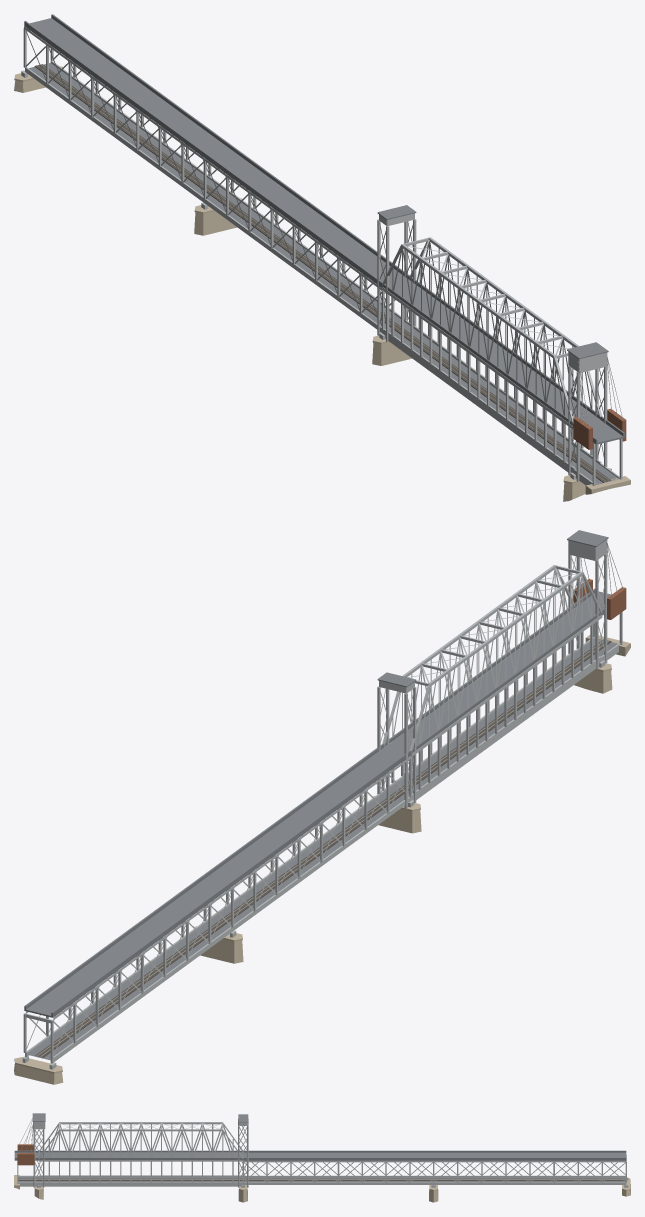
Rendered from kc-asb-bridge.glb.
3 renders of one model, top to bottom at view 1: azimuth 30°, elevation 25°; view 2: azimuth 150°, elevation 25°; view 3: azimuth 270°, elevation 25°, orthographic. The views are drawn at different scales.
Visible parts, largest first — view 1: ASB Bridge; view 2: ASB Bridge; view 3: ASB Bridge.
Boxes of the visible parts, x1=… form: ASB Bridge: x1=14, y1=14, x2=630, y2=501; ASB Bridge: x1=14, y1=530, x2=630, y2=1084; ASB Bridge: x1=14, y1=1113, x2=630, y2=1202.
Bounding box in the file's own units: 20 × 57.2 × 405.
